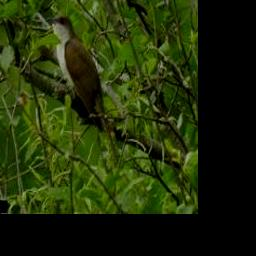Cuckoo: (48, 16, 119, 167)
